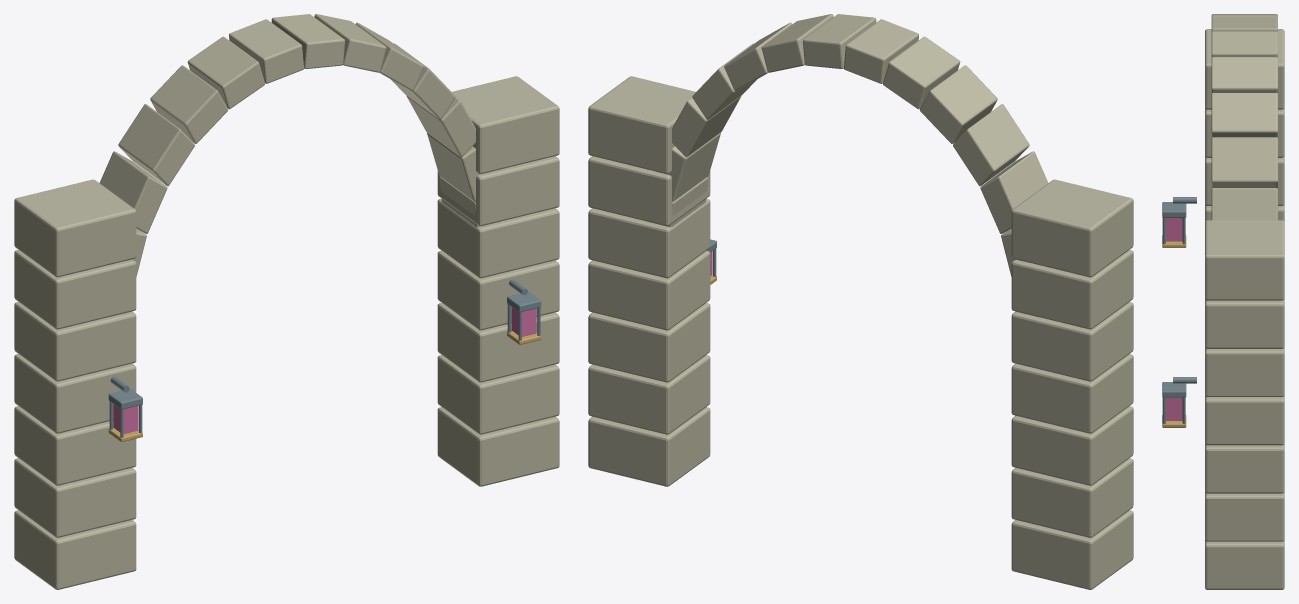
File: a4_gate.glb
The picture shows the model from 3 angles, left to right: view 1: azimuth 30°, elevation 25°; view 2: azimuth 150°, elevation 25°; view 3: azimuth 270°, elevation 25°; orthographic projection. The views are drawn at different scales.
Visible parts, largest first — view 1: Body.038; view 2: Body.038; view 3: Body.038.
Boxes of the visible parts, x1,y1,x2,y2 form: Body.038: (14, 14, 559, 589); Body.038: (588, 14, 1133, 589); Body.038: (1162, 14, 1284, 589).
Bounding box in the file's own units: 4.05 × 3.71 × 0.92.
